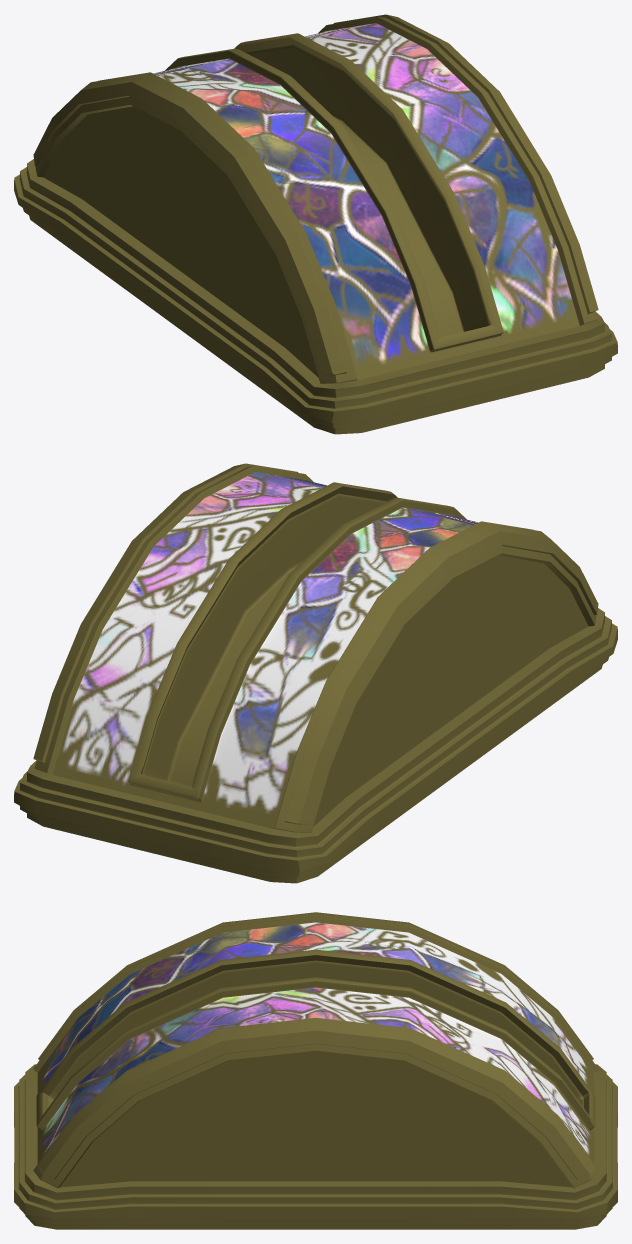
The model's file is leverBasePre.glb.
3 renders of one model, top to bottom at view 1: azimuth 30°, elevation 25°; view 2: azimuth 150°, elevation 25°; view 3: azimuth 270°, elevation 25°, orthographic. The views are drawn at different scales.
Parts seen in each view (by area): view 1: Mesh_1.003; view 2: Mesh_1.003; view 3: Mesh_1.003.
Part boxes in pixels (bbox=[...]): Mesh_1.003: bbox=[14, 14, 617, 434]; Mesh_1.003: bbox=[14, 463, 617, 883]; Mesh_1.003: bbox=[14, 912, 617, 1229].
Size of the model in its own units: 0.4998 by 0.3451 by 0.9278.
Materials: 1 (1 with a texture image).
